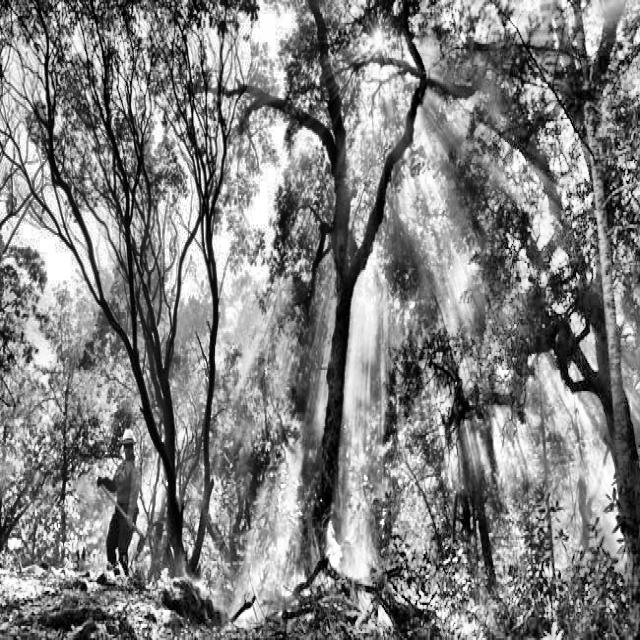fire: (255, 250, 465, 640)
